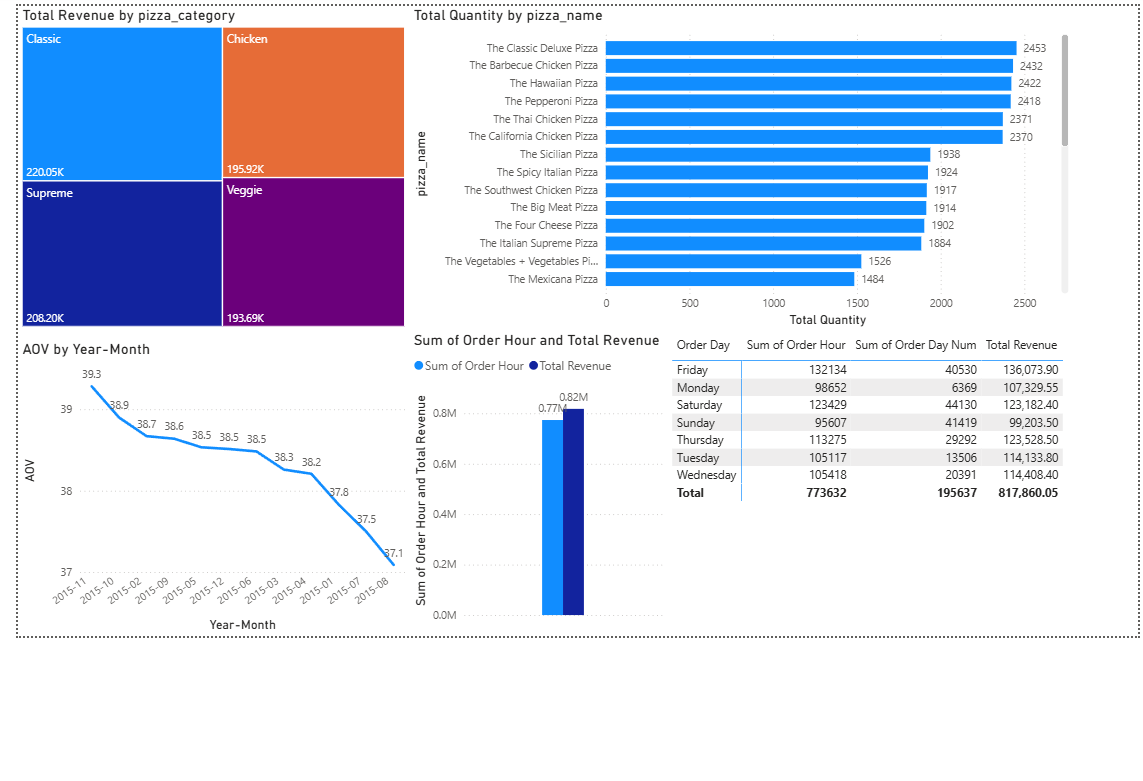

What the dashboard file says about the page in this screenshot:
{"tool":"powerbi","page":{"name":"Page 2","canvas":[1280,720],"ordinal":1},"visuals":[{"type":"treemap","fields":{"Group":["pizza_sales.pizza_category"],"Values":["Table1.Total Revenue"]},"box":[0,0,447.1,371.4],"z":0},{"type":"clusteredBarChart","fields":{"Category":["pizza_sales.pizza_name"],"Y":["Table1.Total Quantity"]},"box":[447.1,0,758.6,371.4],"z":1000},{"type":"lineChart","fields":{"Category":["pizza_sales.Year-Month"],"Y":["pizza_sales.AOV"]},"box":[0,381.4,447.1,338.6],"z":2000},{"type":"clusteredColumnChart","fields":{"Y":["Sum(pizza_sales.Order Hour)","Table1.Total Revenue"]},"box":[447.1,371.4,295.7,338.6],"z":3000},{"type":"pivotTable","fields":{"Rows":["pizza_sales.Order Day"],"Values":["Sum(pizza_sales.Order Hour)","Sum(pizza_sales.Order Day Num)","Table1.Total Revenue"]},"box":[742.9,371.4,505.7,338.6],"z":4000}]}

Visuals, with their boxes on the page's 1280x720 design canvas (x1, y1, x2, y2). These are canvas units, not pixel positions in the 1143x781 screenshot, which may show the page scaled, cropped or inside an application window:
treemap - pizza_sales.pizza_category x Table1.Total Revenue: 0/0/447/371
clusteredBarChart - pizza_sales.pizza_name x Table1.Total Quantity: 447/0/1206/371
lineChart - pizza_sales.Year-Month x pizza_sales.AOV: 0/381/447/720
clusteredColumnChart - Sum(pizza_sales.Order Hour) x Table1.Total Revenue: 447/371/743/710
pivotTable - pizza_sales.Order Day x Sum(pizza_sales.Order Hour): 743/371/1249/710
